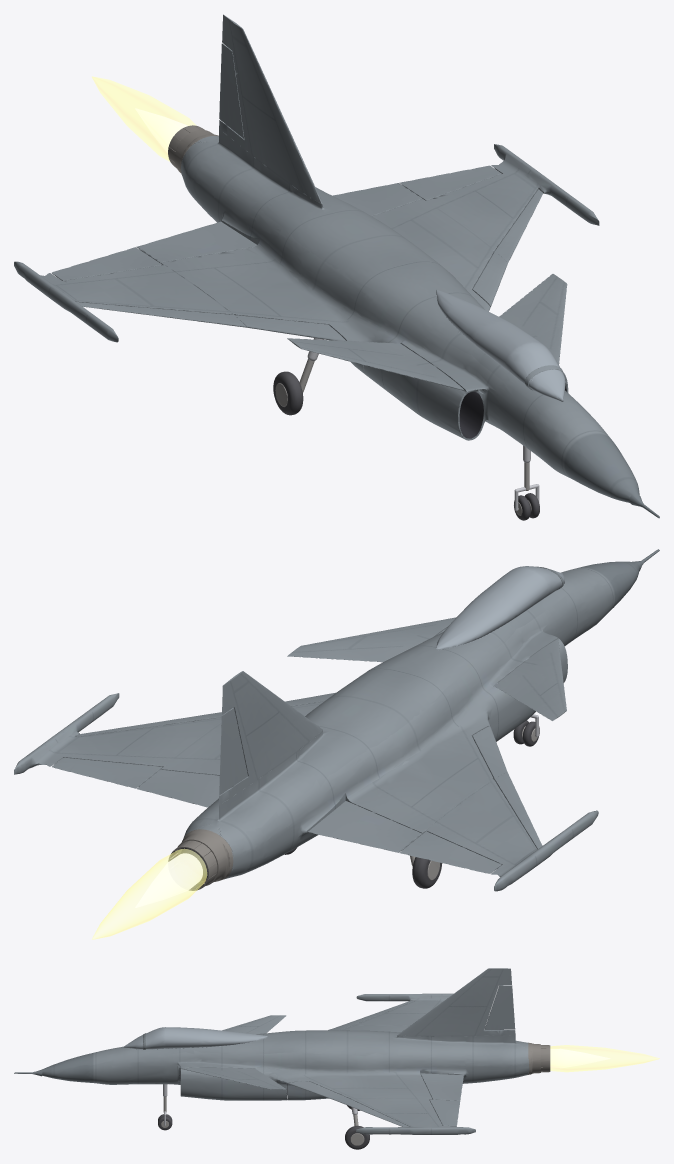
File: gripen.glb
The picture shows the model from 3 angles, top to bottom: view 1: azimuth 30°, elevation 25°; view 2: azimuth 150°, elevation 25°; view 3: azimuth 270°, elevation 25°; orthographic projection. The views are drawn at different scales.
Visible parts, largest first — view 1: airframe, fsim:elevator@-20,50 (×2), fsim:lef@-3,25 (×2), fsim:elevator+aileron:-1@-25,25 (×2), fsim:afterburner:0, fsim:elevator+aileron:1@-25,25 (×2), fsim:rudder, fsim:wheel:2:0.33; view 2: airframe, fsim:elevator@-20,50 (×2), fsim:elevator+aileron:-1@-25,25 (×2), fsim:afterburner:0, fsim:elevator+aileron:1@-25,25 (×2), fsim:lef@-3,25 (×2), fsim:rudder, fsim:wheel:2:0.33; view 3: airframe, fsim:afterburner:0, fsim:elevator@-20,50 (×2), fsim:elevator+aileron:1@-25,25 (×2), fsim:lef@-3,25 (×2), fsim:rudder, fsim:wheel:1:0.33, fsim:gear:90:0:0.2.
Part boxes in pixels (left/top/right/bottom): airframe: left=14, top=14, right=659, bottom=518; fsim:elevator@-20,50 (×2): left=287, top=274, right=567, bottom=390; fsim:lef@-3,25 (×2): left=77, top=189, right=543, bottom=340; fsim:elevator+aileron:-1@-25,25 (×2): left=52, top=221, right=256, bottom=280; fsim:afterburner:0: left=92, top=76, right=196, bottom=161; fsim:elevator+aileron:1@-25,25 (×2): left=333, top=165, right=501, bottom=216; fsim:rudder: left=219, top=43, right=244, bottom=138; fsim:wheel:2:0.33: left=273, top=371, right=303, bottom=415; airframe: left=14, top=549, right=659, bottom=891; fsim:elevator@-20,50 (×2): left=287, top=617, right=566, bottom=720; fsim:elevator+aileron:-1@-25,25 (×2): left=308, top=801, right=501, bottom=873; fsim:afterburner:0: left=92, top=849, right=207, bottom=939; fsim:elevator+aileron:1@-25,25 (×2): left=52, top=757, right=222, bottom=807; fsim:lef@-3,25 (×2): left=76, top=692, right=542, bottom=849; fsim:rudder: left=219, top=707, right=247, bottom=795; fsim:wheel:2:0.33: left=412, top=857, right=442, bottom=888; airframe: left=14, top=968, right=540, bottom=1134; fsim:afterburner:0: left=550, top=1045, right=659, bottom=1072; fsim:elevator@-20,50 (×2): left=183, top=1015, right=286, bottom=1089; fsim:elevator+aileron:1@-25,25 (×2): left=420, top=1073, right=463, bottom=1126; fsim:lef@-3,25 (×2): left=288, top=1000, right=414, bottom=1126; fsim:rudder: left=484, top=985, right=515, bottom=1029; fsim:wheel:1:0.33: left=345, top=1125, right=369, bottom=1149; fsim:gear:90:0:0.2: left=287, top=1083, right=326, bottom=1100.
Size of the model in its own units: 8.42 by 4.67 by 16.96.
9 materials, 1 textured.
